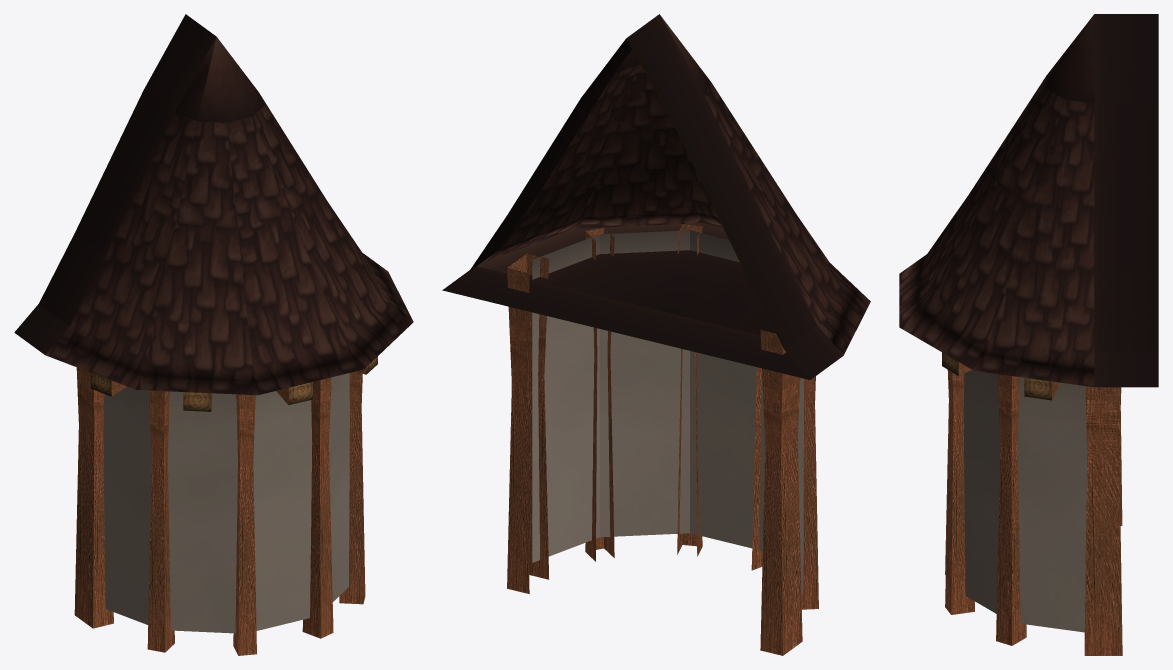
The model's file is fanasty_mod_round_tower_extention_sml.fbx.
The picture shows the model from 3 angles, left to right: view 1: azimuth 30°, elevation 25°; view 2: azimuth 150°, elevation 25°; view 3: azimuth 270°, elevation 25°; orthographic projection. The views are drawn at different scales.
Parts seen in each view (by area): view 1: round_tower_extention_sml; view 2: round_tower_extention_sml; view 3: round_tower_extention_sml.
Part boxes in pixels (<box>): round_tower_extention_sml: <box>14,14,413,655</box>; round_tower_extention_sml: <box>442,14,870,655</box>; round_tower_extention_sml: <box>899,14,1158,655</box>.
Size of the model in its own units: 5.28 by 8.19 by 3.34.
